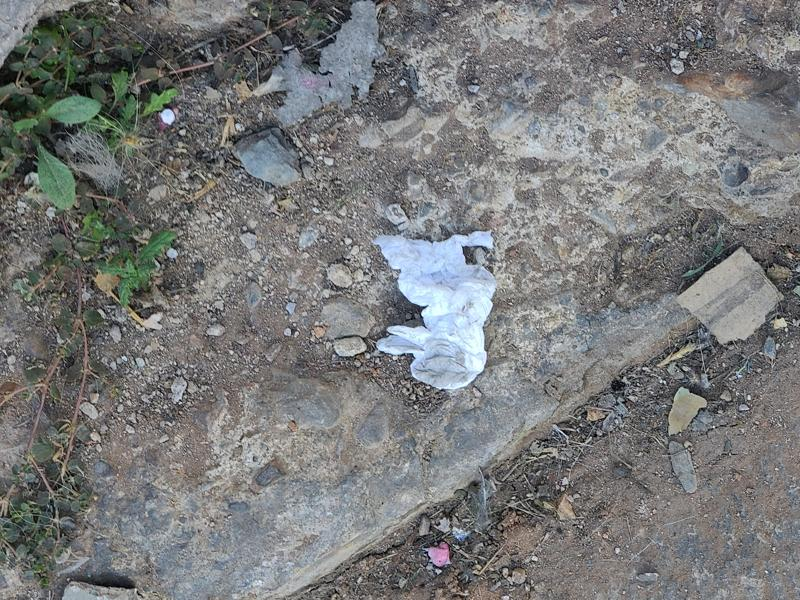papel: (372, 233, 497, 393)
